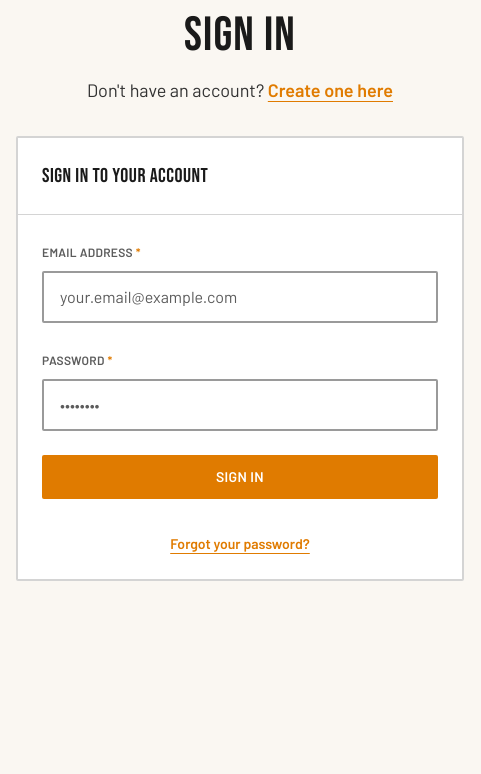
Scenario: LoginPage - Industrial Design System › Unverified Email Flow › should show ResendVerificationForm for unverified email
Type "unverified@example.com" into the field with placeholder "your.email@example.com" at (240, 297), box [42, 271, 438, 323]
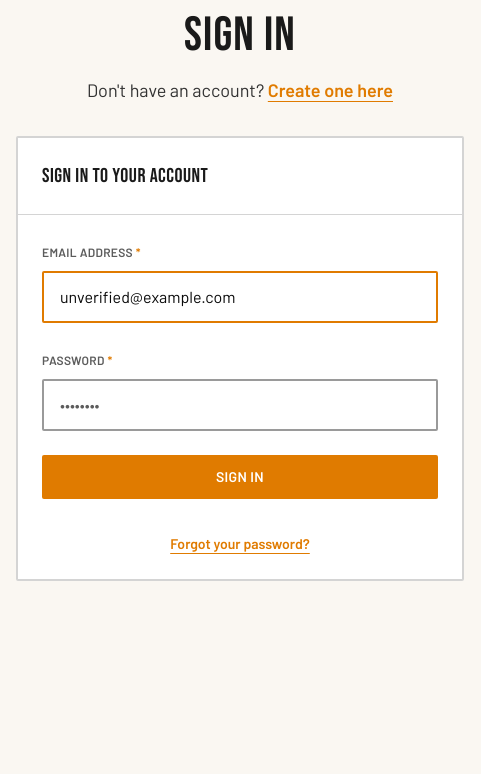
Type "password123" into the password field with placeholder "••••••••" at (240, 405), box [42, 379, 438, 431]
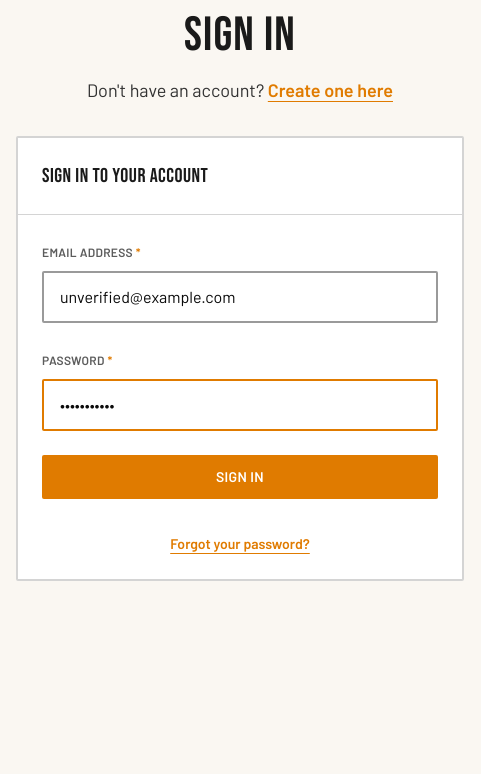
Click the button "Sign In" at (240, 477), box [42, 455, 438, 499]
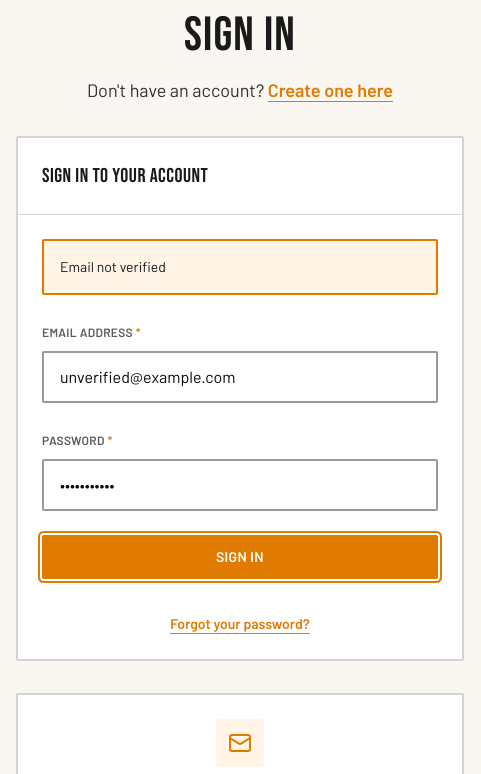
Result: the text "Email not verified" is shown at [60, 258, 166, 275]
